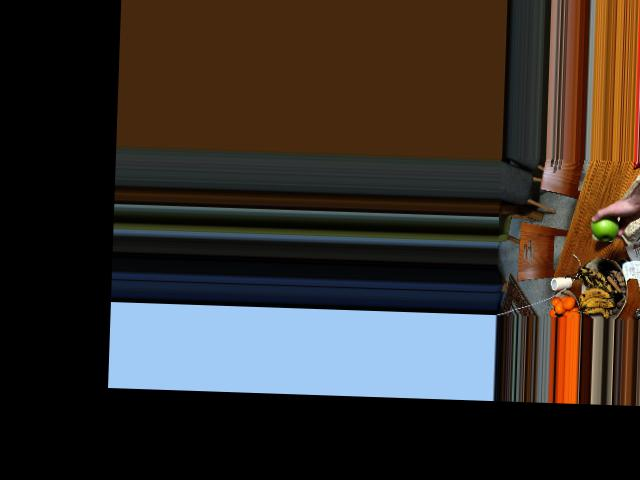apple: (587, 210, 622, 242)
